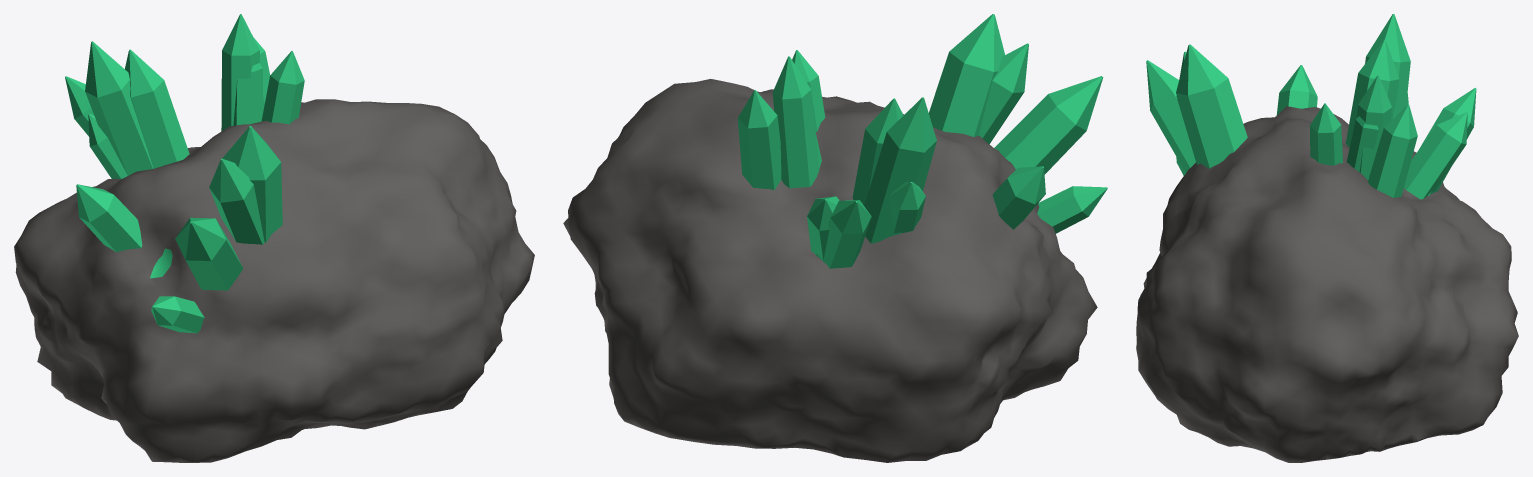
The model's file is emerald_deep.glb.
3 views of the same model, side by side, from view 1: azimuth 30°, elevation 25°; view 2: azimuth 150°, elevation 25°; view 3: azimuth 270°, elevation 25° (orthographic). The views are drawn at different scales.
Visible parts, largest first — view 1: emerald_deep; view 2: emerald_deep; view 3: emerald_deep.
Boxes of the visible parts, x1,y1,x2,y2 form: emerald_deep: (14,14,534,462); emerald_deep: (563,14,1107,462); emerald_deep: (1136,14,1518,462).
Size of the model in its own units: 2.38 by 1.74 by 1.98.
